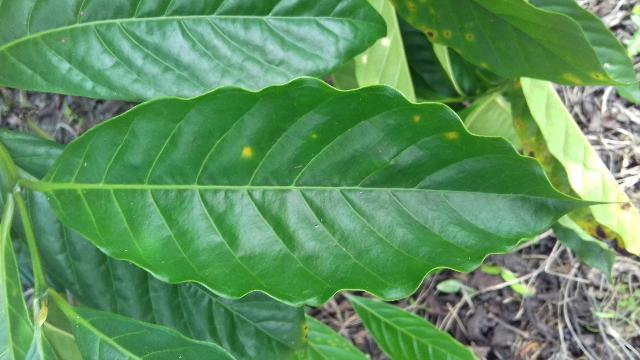rust_level_1: (37, 78, 640, 308)
